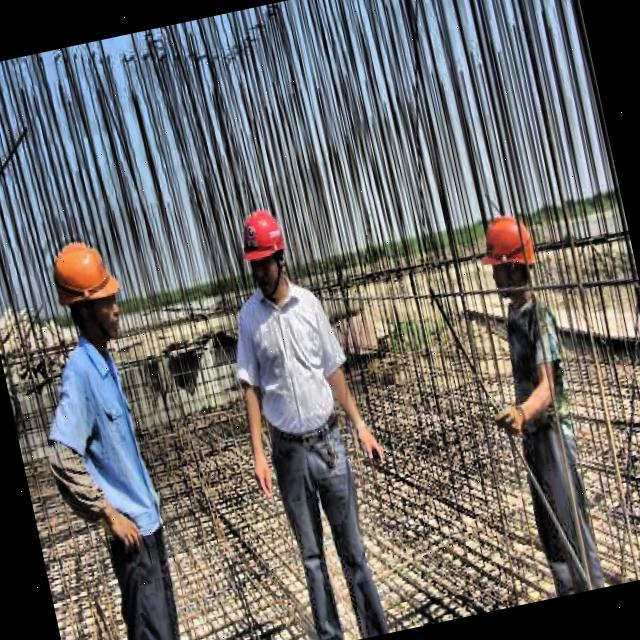helmet: (37, 221, 138, 356), (472, 196, 549, 306), (228, 192, 298, 302)
